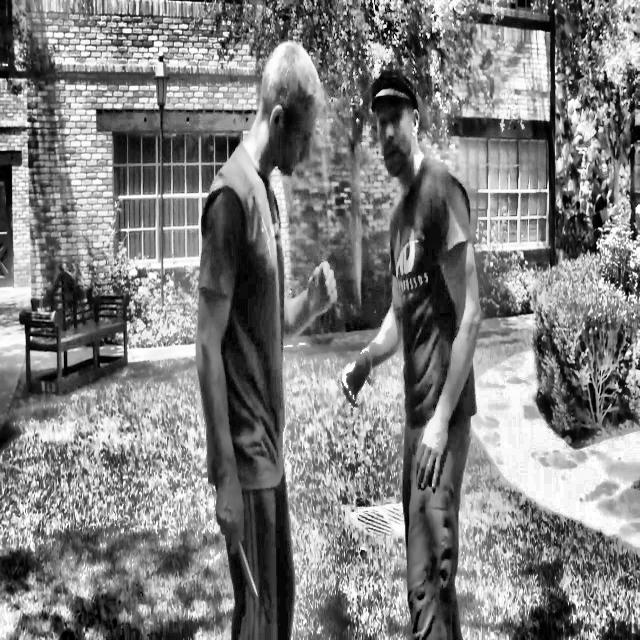robbery: (187, 30, 505, 639)
